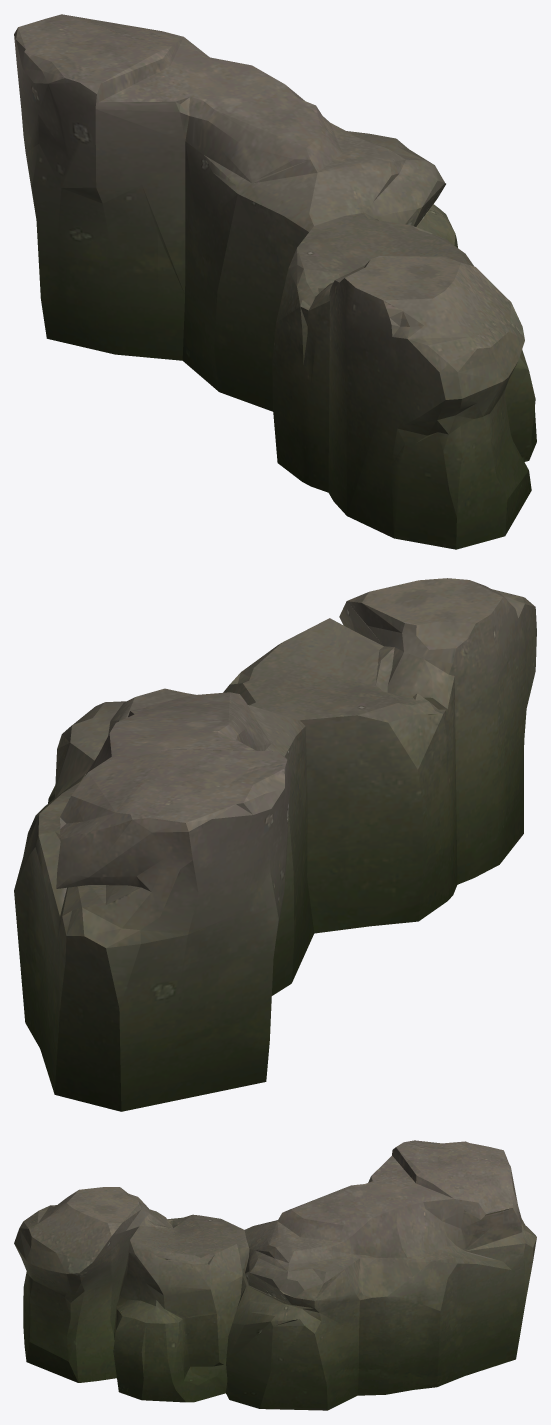
The model's file is riveredge_rock_wall002a.fbx.
3 renders of one model, top to bottom at view 1: azimuth 30°, elevation 25°; view 2: azimuth 150°, elevation 25°; view 3: azimuth 270°, elevation 25°, orthographic. The views are drawn at different scales.
Visible parts, largest first — view 1: riveredge_rock_wall002a; view 2: riveredge_rock_wall002a; view 3: riveredge_rock_wall002a.
Boxes of the visible parts, x1=… form: riveredge_rock_wall002a: x1=14, y1=14, x2=536, y2=549; riveredge_rock_wall002a: x1=14, y1=578, x2=536, y2=1111; riveredge_rock_wall002a: x1=14, y1=1140, x2=536, y2=1410.
Bounding box in the file's own units: 332 × 283 × 754.
